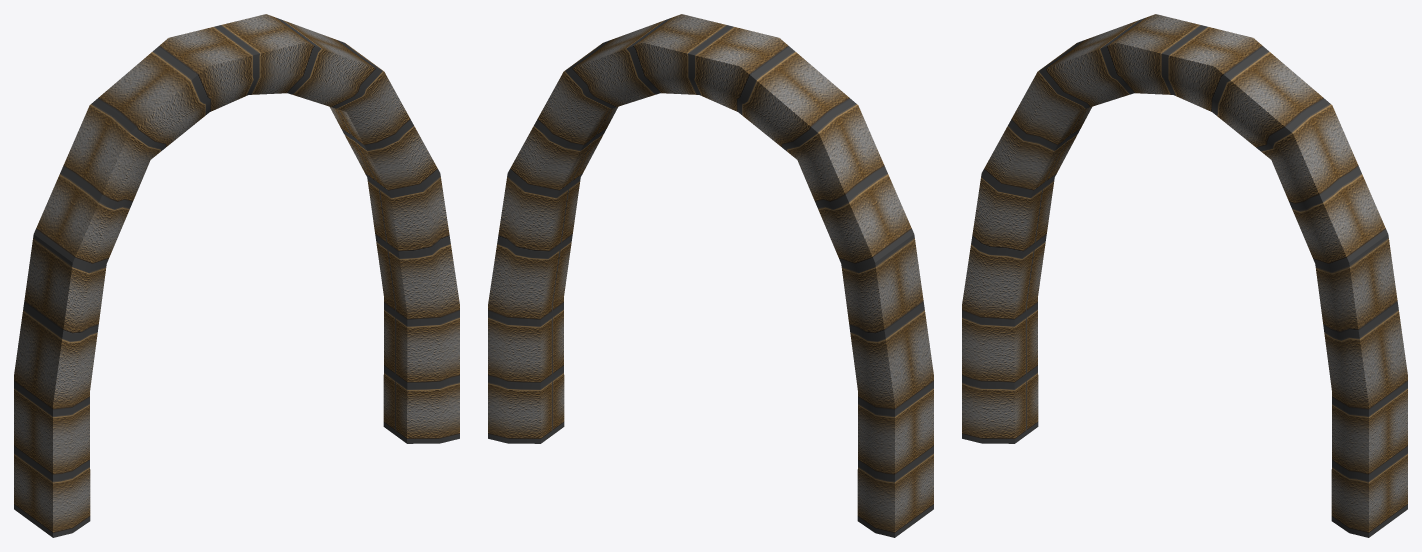
Rendered from MainDoor_arch.fbx.
The picture shows the model from 3 angles, left to right: view 1: azimuth 30°, elevation 25°; view 2: azimuth 150°, elevation 25°; view 3: azimuth 330°, elevation 25°; orthographic projection.
Visible parts, largest first — view 1: arch; view 2: arch; view 3: arch.
Boxes of the visible parts, left/top/right/bottom form: arch: left=14, top=14, right=459, bottom=537; arch: left=488, top=14, right=933, bottom=537; arch: left=962, top=14, right=1407, bottom=537.
Size of the model in its own units: 6 by 6.11 by 1.
Materials: 1 (1 with a texture image).
